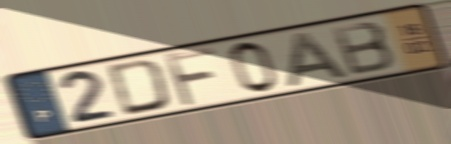0: (229, 39, 280, 95)
2: (57, 68, 122, 126)
A: (285, 29, 354, 90)
B: (328, 19, 399, 78)
D: (104, 56, 173, 118)
F: (160, 45, 219, 110)
